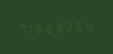five: (77, 19, 86, 32)
four: (87, 18, 96, 32)
one: (27, 21, 36, 34)
seven: (17, 21, 26, 35)
six: (37, 20, 46, 34)
three: (57, 19, 66, 33)
two: (47, 20, 56, 34), (67, 19, 76, 33)
